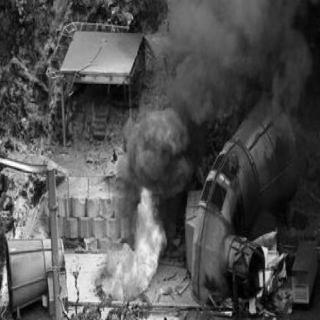Smoke: (178, 0, 316, 119), (127, 104, 184, 190)
